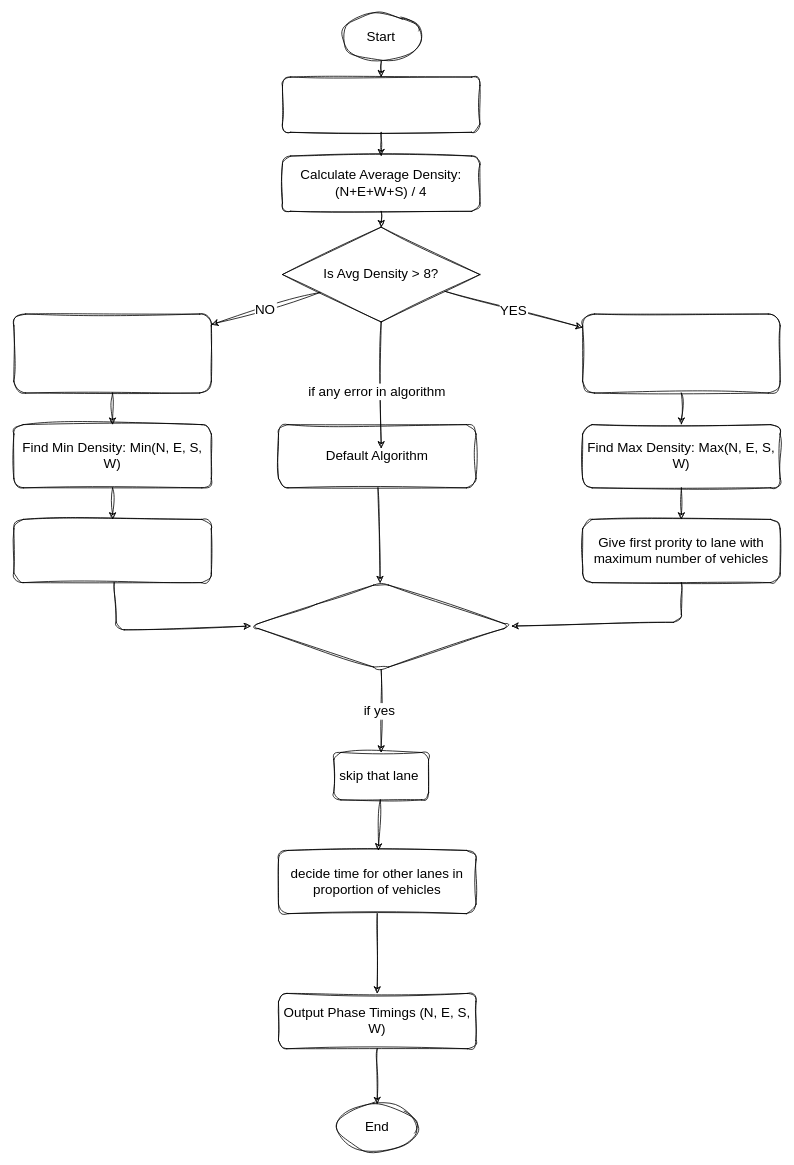
Some shapes in this 794 by 1165 pixel diagram are drawn without their labels. The centre of each missing label's shape, as x and y in pixels:
Give first prority to lane with minimum number of vehicles: point (112, 551)
High-Density Algorithm: point (681, 353)
if vehicle at any lane is 0: point (381, 626)
Low-Density Algorithm: point (112, 353)
Receive Inputs: North, East, West, South Vehicles: point (381, 104)
